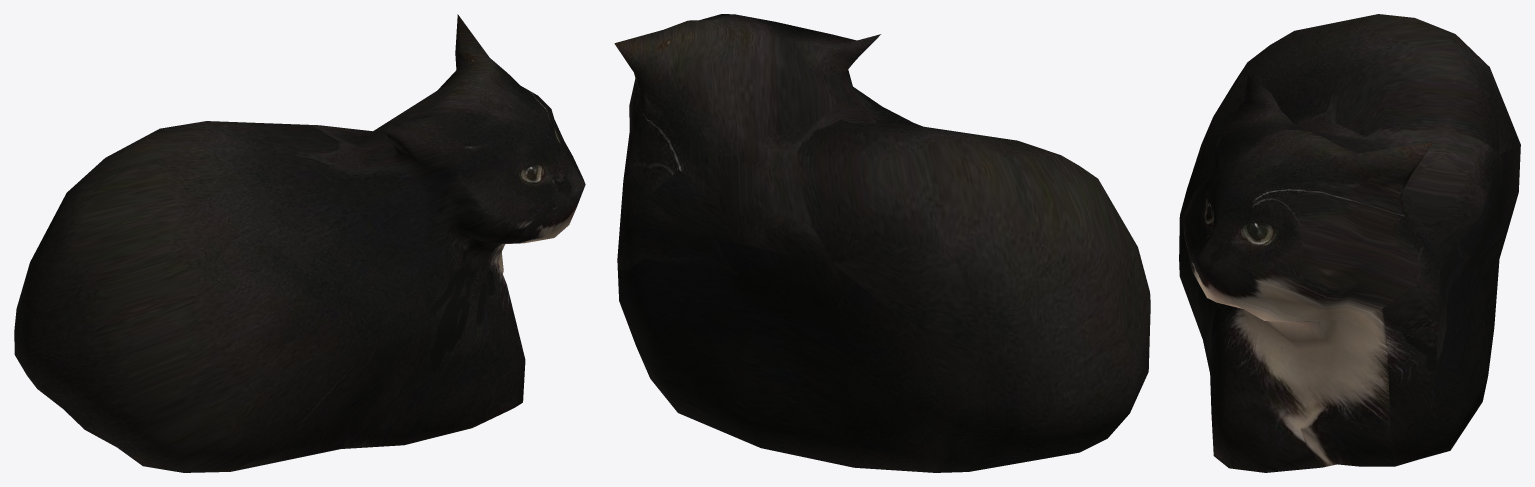
The model's file is cat_dingus.obj.
3 views of the same model, side by side, from view 1: azimuth 30°, elevation 25°; view 2: azimuth 150°, elevation 25°; view 3: azimuth 270°, elevation 25° (orthographic). The views are drawn at different scales.
Parts seen in each view (by area): view 1: dingus_dingus_0; view 2: dingus_dingus_0; view 3: dingus_dingus_0.
Part boxes in pixels (x1,y1,x2,y2): dingus_dingus_0: (14, 14, 585, 472); dingus_dingus_0: (614, 14, 1150, 472); dingus_dingus_0: (1179, 14, 1520, 472).
Bounding box in the file's own units: 29.82 × 19.21 × 16.49.
Materials: 1 (1 with a texture image).
